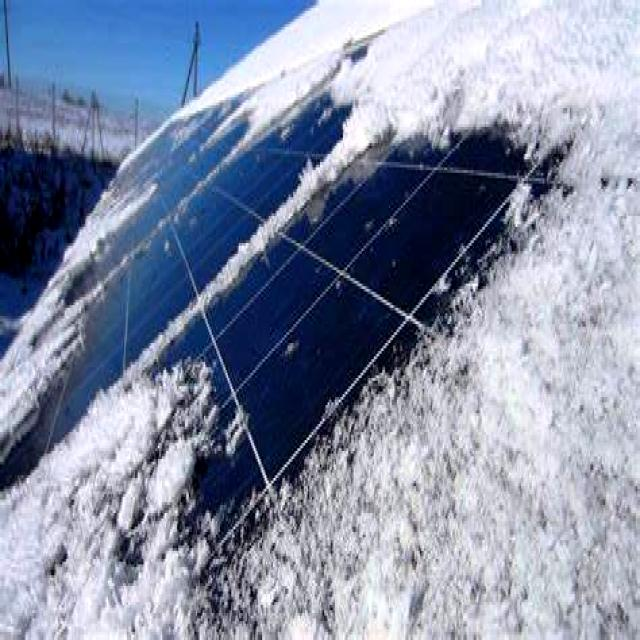panel: (481, 39, 598, 252), (288, 420, 403, 588), (379, 346, 503, 496), (173, 495, 284, 634), (116, 354, 232, 482), (457, 226, 558, 344), (395, 64, 473, 216), (6, 306, 87, 410), (220, 190, 314, 270), (206, 68, 282, 156), (291, 122, 378, 188), (326, 33, 390, 112), (46, 236, 98, 303), (119, 121, 181, 171), (84, 179, 152, 222)
